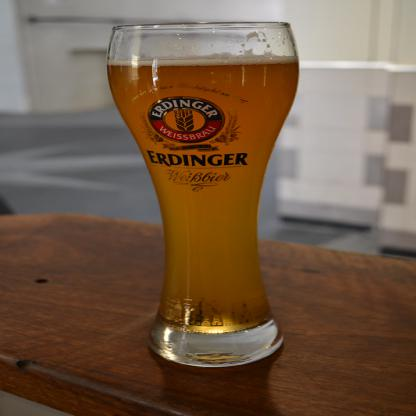drinking: (107, 22, 299, 368)
